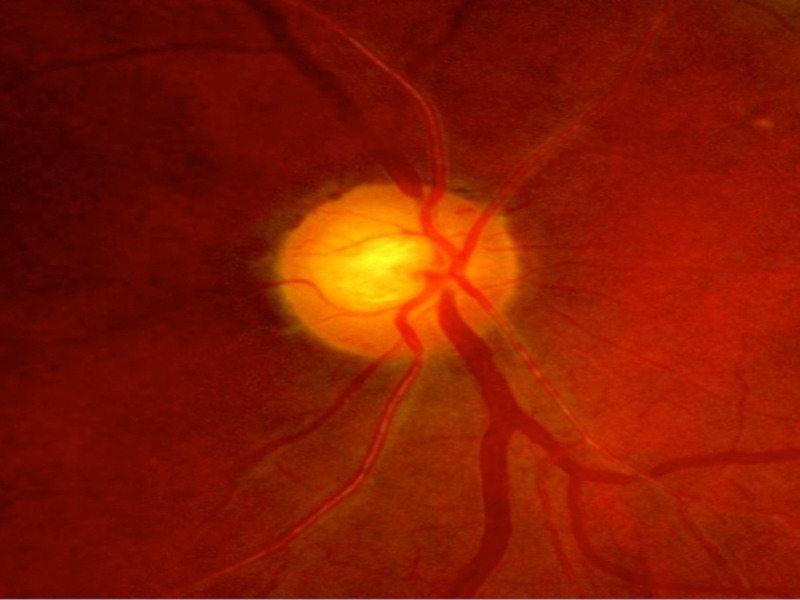Optic Cup: (343, 239, 420, 311)
Optic Disc: (277, 182, 516, 362)
